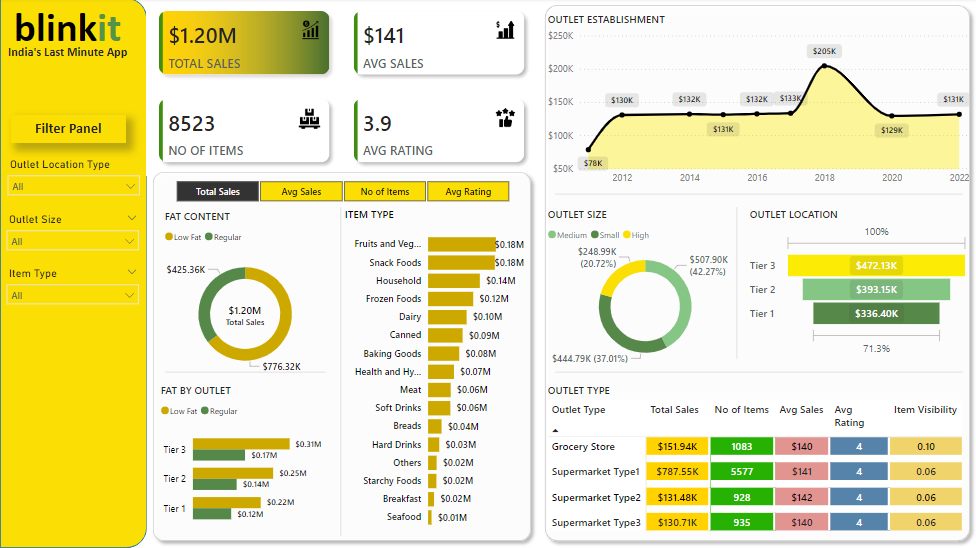

The page's visual inventory and layout, read from the dashboard file:
{"tool":"powerbi","page":{"name":"Page 1","canvas":[1280,720],"ordinal":0},"visuals":[{"type":"shape","box":[1.3,0,192.4,720],"z":0},{"type":"textbox","box":[14.4,0,164.2,74.9],"z":1000},{"type":"textbox","box":[1.4,56.2,177.1,37.4],"z":2000},{"type":"cardVisual","fields":{"Data":["DAX Measures.Total Sales","DAX Measures.Avg Sales","DAX Measures.No of Items","DAX Measures.Avg Rating"]},"box":[193,0,512.6,233.3],"z":3000},{"type":"shape","box":[193,218.9,512.6,501.1],"z":4000},{"type":"slicer","fields":{"Values":["Metrics.Metrics"]},"box":[207.4,233.3,485.3,40.3],"z":5000},{"type":"donutChart","title":"FAT CONTENT","fields":{"Y":["DAX Measures.Total Sales"],"Category":["Table1.Item Fat Content"]},"box":[211.7,276.5,220.3,230.4],"z":6000},{"type":"cardVisual","fields":{"Data":["DAX Measures.Total Sales"]},"box":[273.6,381.6,97.9,59],"z":6001},{"type":"barChart","title":"ITEM TYPE","fields":{"Category":["Table1.Item Type"],"Y":["DAX Measures.Total Sales"]},"box":[447.8,273.6,244.8,430.6],"z":6002},{"type":"clusteredBarChart","title":"FAT BY OUTLET","fields":{"Category":["Table1.Outlet Location Type"],"Series":["Table1.Item Fat Content"],"Y":["DAX Measures.Total Sales"]},"box":[207.4,504,220.3,200.2],"z":6003},{"type":"shape","box":[217.4,472.3,210.2,34.6],"z":6004},{"type":"shape","box":[349.9,273.6,195.8,430.6],"z":6005},{"type":"shape","box":[705.6,0,574.6,720],"z":6006},{"type":"lineChart","title":"OUTLET ESTABLISHMENT","fields":{"Y":["DAX Measures.Total Sales"],"Category":["Table1.Outlet Establishment Year"]},"box":[712.8,18.7,561.6,234.7],"z":6007},{"type":"donutChart","title":"OUTLET SIZE","fields":{"Category":["Table1.Outlet Size"],"Y":["DAX Measures.Total Sales"]},"box":[712.8,273.6,265,216],"z":6008},{"type":"funnel","title":"OUTLET LOCATION","fields":{"Y":["DAX Measures.Total Sales"],"Category":["Table1.Outlet Location Type"]},"box":[977.8,273.6,296.6,198.7],"z":6009},{"type":"pivotTable","title":"OUTLET TYPE","fields":{"Rows":["Table1.Outlet Type"],"Values":["DAX Measures.Total Sales","DAX Measures.No of Items","DAX Measures.Avg Sales","DAX Measures.Avg Rating","Avg(Table1.Item Visibility)"]},"box":[712.8,504,561.6,214.6],"z":6010},{"type":"shape","box":[727.2,239,534.2,34.6],"z":6011},{"type":"shape","box":[868.3,273.6,195.8,198.7],"z":6012},{"type":"shape","box":[727.2,472.3,534.2,34.6],"z":6013},{"type":"slicer","fields":{"Values":["Table1.Outlet Location Type"]},"box":[1.4,204.5,193,67.7],"z":6014},{"type":"slicer","fields":{"Values":["Table1.Outlet Size"]},"box":[0,276.5,193,67.7],"z":6015},{"type":"slicer","fields":{"Values":["Table1.Item Type"]},"box":[0,347,193,69.1],"z":6016},{"type":"textbox","box":[15.8,152.6,149.8,37.4],"z":6017}]}

Visuals, with their boxes in screenshot pixels (x1, y1, x2, y2), scaled from the page's 1280x720 canvas onto the 976x548 screenshot:
shape: <region>1, 0, 148, 547</region>
textbox: <region>11, 0, 136, 57</region>
textbox: <region>1, 43, 136, 71</region>
cardVisual - DAX Measures.Total Sales x DAX Measures.Avg Sales: <region>147, 0, 538, 178</region>
shape: <region>147, 167, 538, 547</region>
slicer - Metrics.Metrics: <region>158, 178, 528, 208</region>
"FAT CONTENT" donutChart: <region>161, 210, 329, 386</region>
cardVisual - DAX Measures.Total Sales: <region>209, 290, 283, 335</region>
"ITEM TYPE" barChart: <region>341, 208, 528, 536</region>
"FAT BY OUTLET" clusteredBarChart: <region>158, 384, 326, 536</region>
shape: <region>166, 359, 326, 386</region>
shape: <region>267, 208, 416, 536</region>
shape: <region>538, 0, 975, 547</region>
"OUTLET ESTABLISHMENT" lineChart: <region>544, 14, 972, 193</region>
"OUTLET SIZE" donutChart: <region>544, 208, 746, 373</region>
"OUTLET LOCATION" funnel: <region>746, 208, 972, 359</region>
"OUTLET TYPE" pivotTable: <region>544, 384, 972, 547</region>
shape: <region>554, 182, 962, 208</region>
shape: <region>662, 208, 811, 359</region>
shape: <region>554, 359, 962, 386</region>
slicer - Table1.Outlet Location Type: <region>1, 156, 148, 207</region>
slicer - Table1.Outlet Size: <region>0, 210, 147, 262</region>
slicer - Table1.Item Type: <region>0, 264, 147, 317</region>
textbox: <region>12, 116, 126, 145</region>
